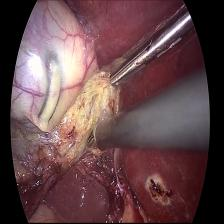Grasper: (106, 0, 196, 92)
Hook: (85, 120, 102, 153)
